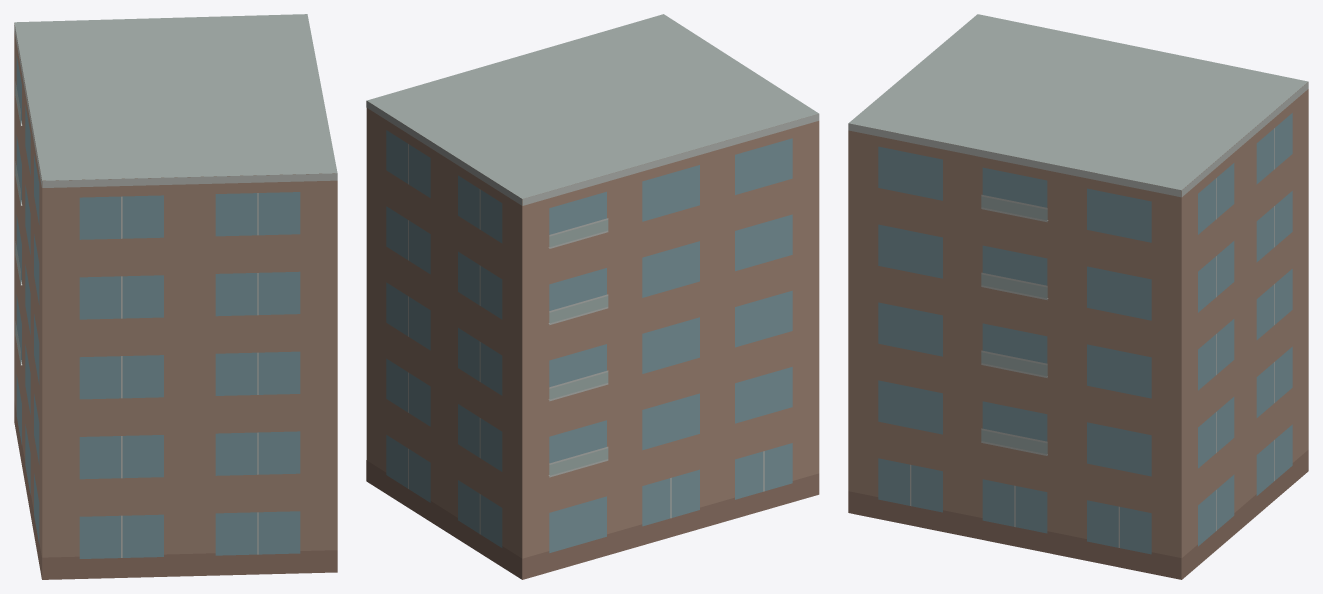
Rendered from survey-upis-32887412.glb.
The picture shows the model from 3 angles, left to right: view 1: azimuth 30°, elevation 25°; view 2: azimuth 150°, elevation 25°; view 3: azimuth 270°, elevation 25°; orthographic projection. The views are drawn at different scales.
Parts seen in each view (by area): view 1: survey-upis-32887412.tmp; view 2: survey-upis-32887412.tmp; view 3: survey-upis-32887412.tmp.
Part boxes in pixels (x1=…): survey-upis-32887412.tmp: x1=14, y1=14, x2=337, y2=579; survey-upis-32887412.tmp: x1=366, y1=14, x2=819, y2=579; survey-upis-32887412.tmp: x1=848, y1=14, x2=1308, y2=579.
Size of the model in its own units: 12.91 by 13.3 by 14.25.
